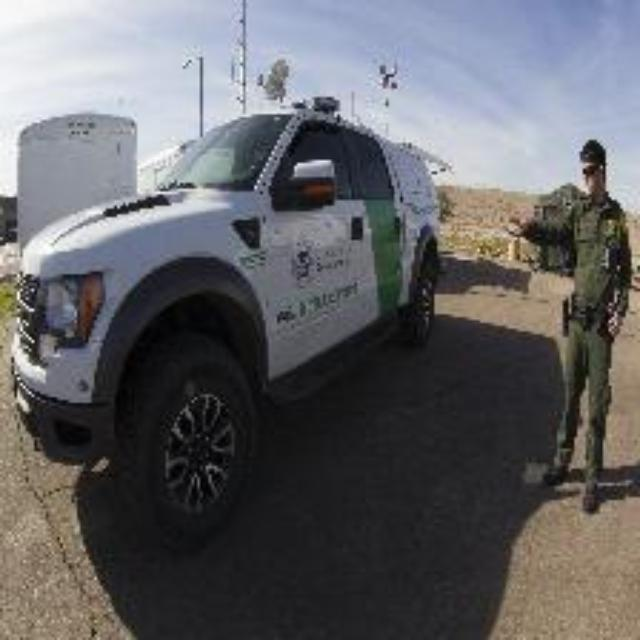emergency: (18, 98, 448, 534)
